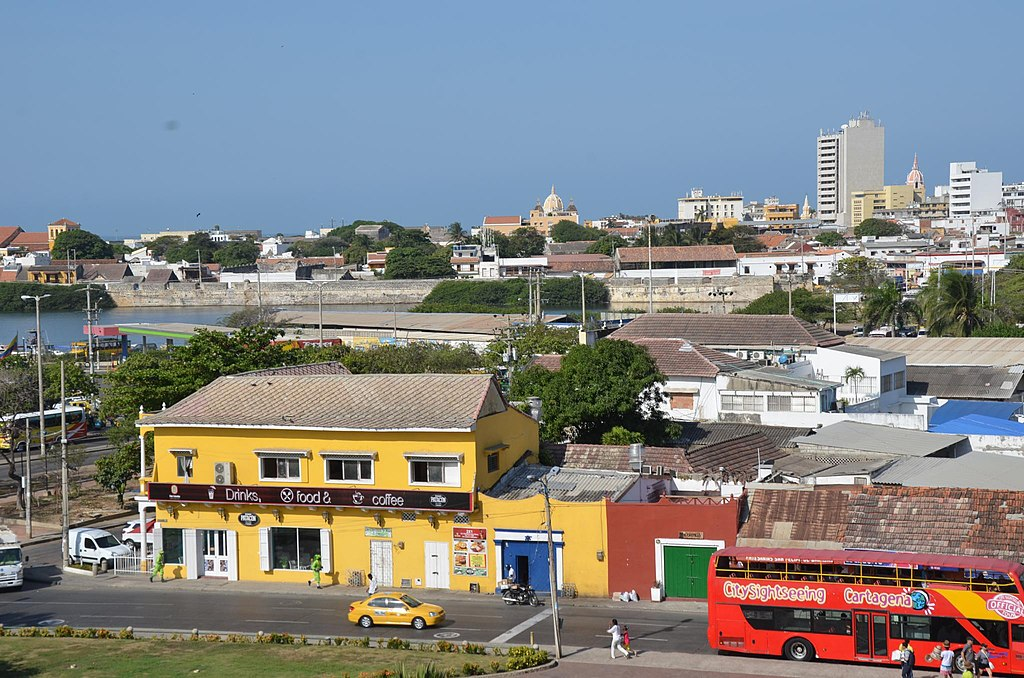House: (135, 367, 607, 595), (618, 312, 904, 428)
